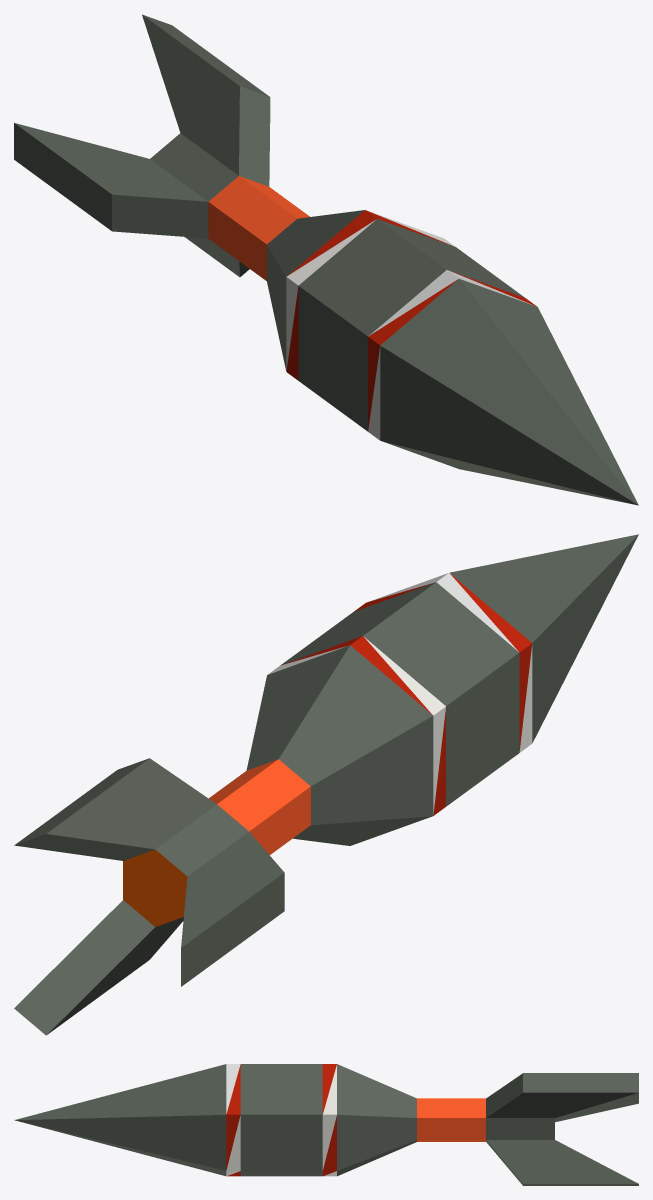
The model's file is LPROCKET2.fbx.
3 renders of one model, top to bottom at view 1: azimuth 30°, elevation 25°; view 2: azimuth 150°, elevation 25°; view 3: azimuth 270°, elevation 25°, orthographic. The views are drawn at different scales.
Parts seen in each view (by area): view 1: RocketLP; view 2: RocketLP; view 3: RocketLP.
Part boxes in pixels (<box>): RocketLP: <box>14,14,638,505</box>; RocketLP: <box>14,534,638,1035</box>; RocketLP: <box>14,1064,638,1185</box>.
Bounding box in the file's own units: 128 × 135 × 675.
